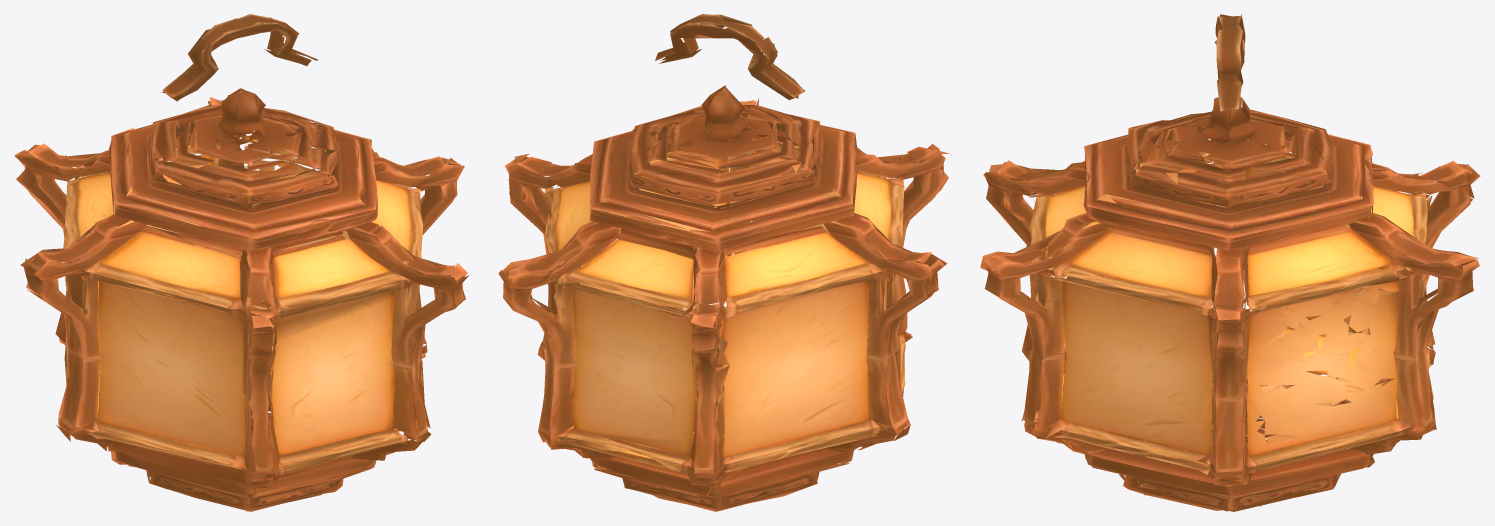
The model's file is prop_stall_5_lantern.glb.
The picture shows the model from 3 angles, left to right: view 1: azimuth 30°, elevation 25°; view 2: azimuth 150°, elevation 25°; view 3: azimuth 270°, elevation 25°; orthographic projection.
Parts seen in each view (by area): view 1: PROP_Stall_5_Lantern; view 2: PROP_Stall_5_Lantern; view 3: PROP_Stall_5_Lantern.
Boxes of the visible parts, x1,y1,x2,y2 form: PROP_Stall_5_Lantern: (14,14,469,511); PROP_Stall_5_Lantern: (498,14,951,511); PROP_Stall_5_Lantern: (980,14,1480,511).
Size of the model in its own units: 0.45 by 0.45 by 0.45.
1 material, 1 textured.
